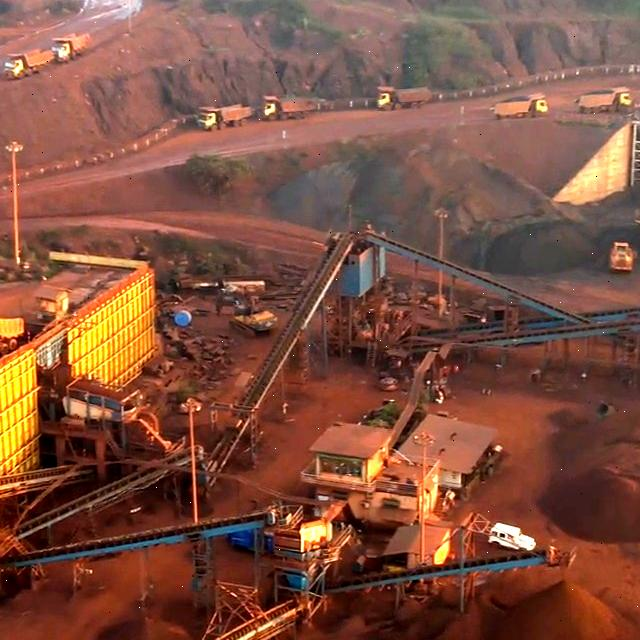Dumper truck: (376, 87, 433, 109), (584, 86, 640, 108), (264, 94, 314, 118), (495, 95, 551, 116), (200, 108, 246, 131), (6, 56, 52, 78), (0, 310, 22, 355), (56, 33, 93, 57)
car: (490, 525, 534, 555)
